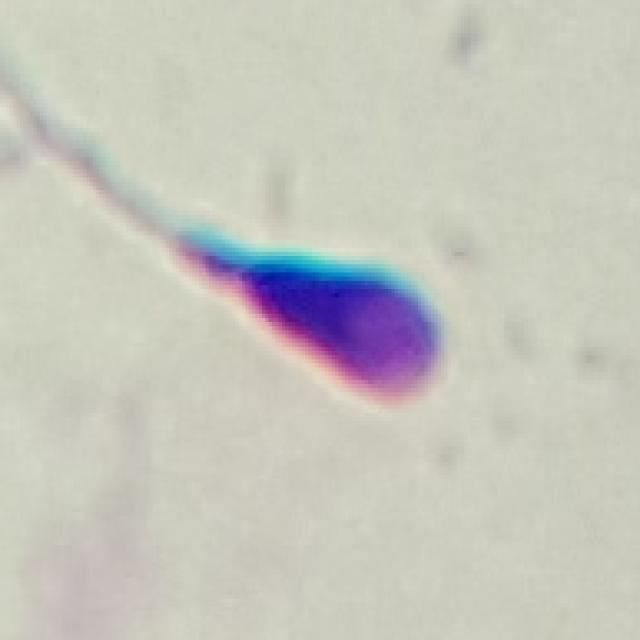abnormal sperm: (91, 76, 481, 451)
